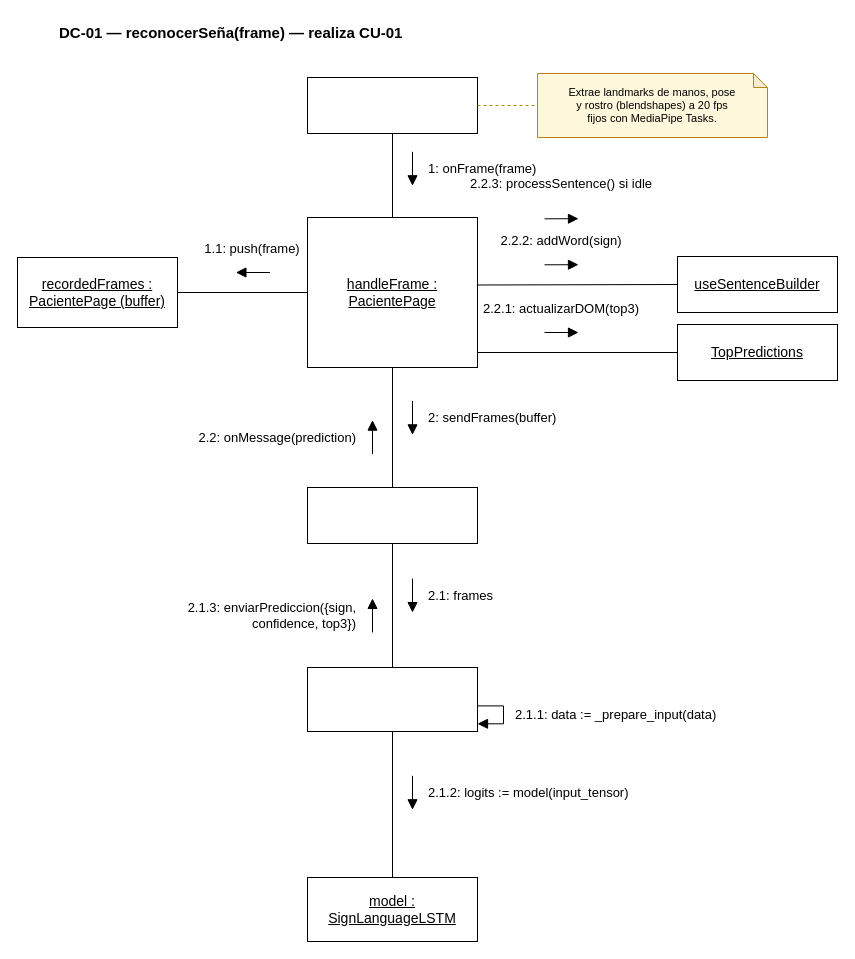
Some shapes in this 855 by 959 pixel diagram are drawn without their labels. Each missing label, with the centre of its shape:
":useMediaPipeTasks" goes at pixel 392 105.
"useSignWebSocket" goes at pixel 392 515.
"websocket_predict : app.py" goes at pixel 392 699.
